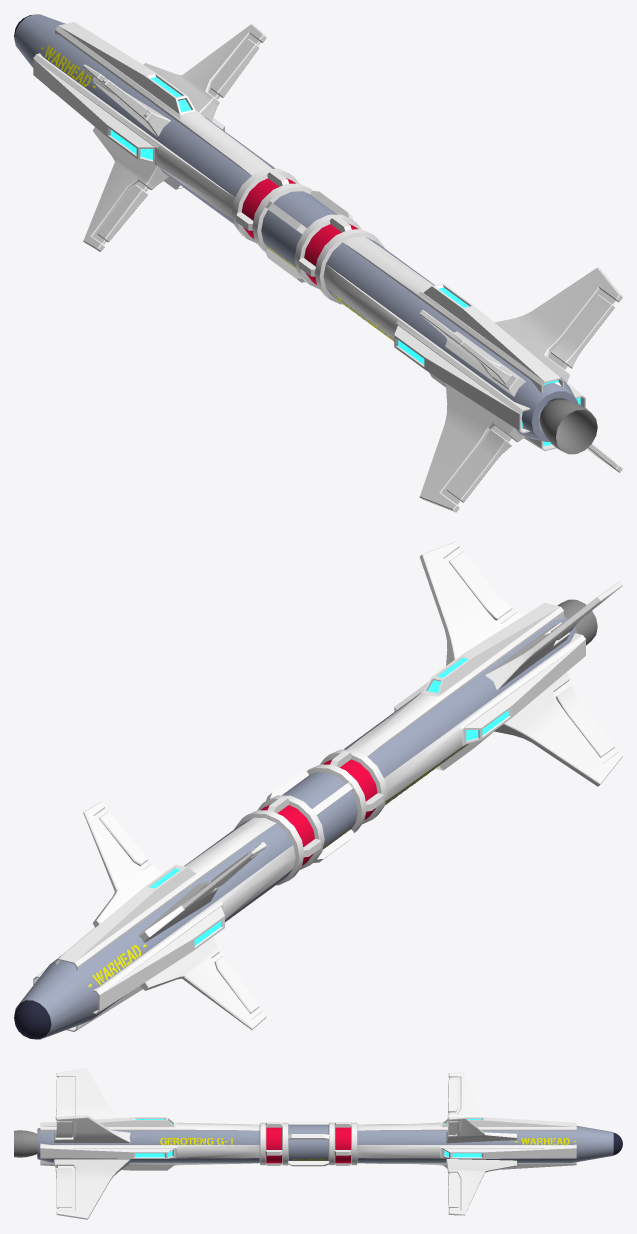
File: GerotengG1(1).glb
3 renders of one model, top to bottom at view 1: azimuth 30°, elevation 25°; view 2: azimuth 150°, elevation 25°; view 3: azimuth 270°, elevation 25°, orthographic. The views are drawn at different scales.
Parts seen in each view (by area): view 1: missile final.001, Text.008; view 2: missile final.001, Text.008; view 3: missile final.001, Text.008.
Part boxes in pixels (<box>): missile final.001: <box>14,14,622,512</box>; Text.008: <box>41,45,393,341</box>; missile final.001: <box>14,541,622,1039</box>; Text.008: <box>88,744,468,987</box>; missile final.001: <box>14,1068,622,1219</box>; Text.008: <box>160,1137,576,1160</box>.
Bounding box in the file's own units: 0.3735 × 0.3735 × 1.97.
3 materials, 1 textured.
